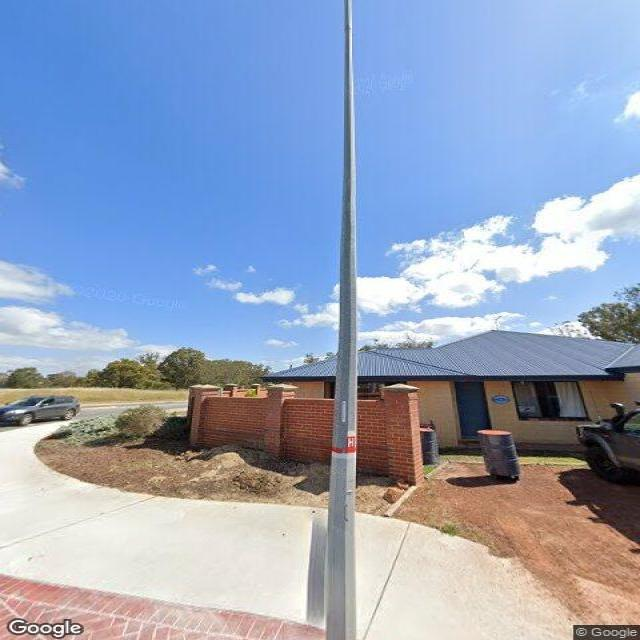steel-pole: (325, 0, 357, 640)
